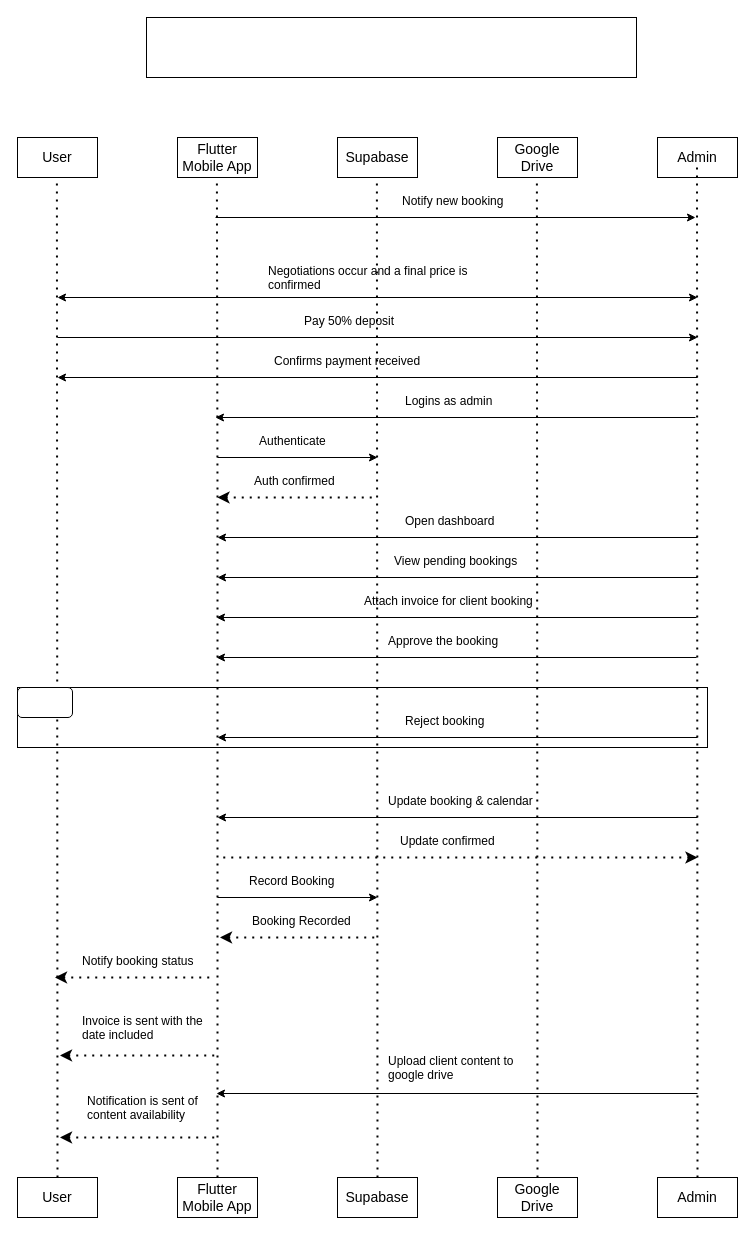
Some shapes in this 755 by 1235 pixel diagram are drawn without their labels. The shapes that lost their labels are listed below. From the top down, each one's centre as x and y in pixels, then its label:
the point at 391,47: Sequence Diagram for Flutter Mobile App
the point at 44,702: alt
